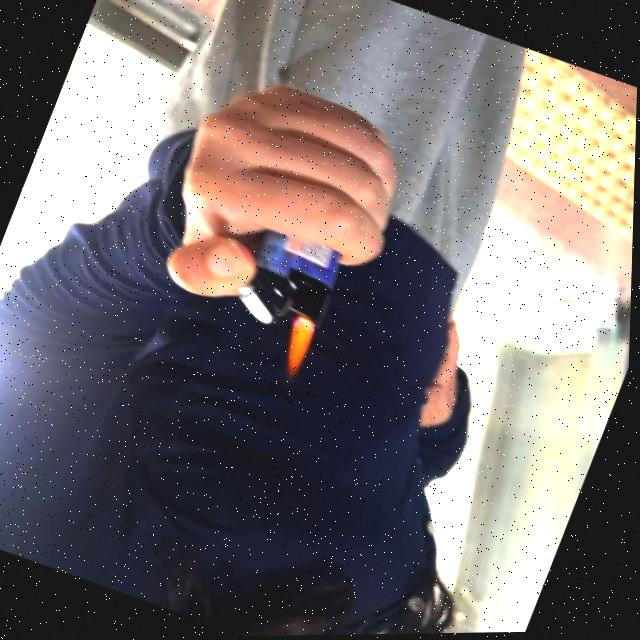Fire: (278, 316, 323, 376)
